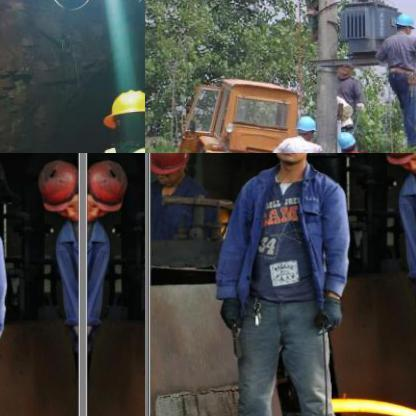Helmet: (38, 156, 80, 224), (82, 156, 124, 224), (105, 83, 144, 147), (146, 153, 193, 189), (265, 153, 322, 169), (381, 153, 415, 178), (392, 10, 415, 37), (294, 113, 314, 143), (334, 130, 357, 152)
